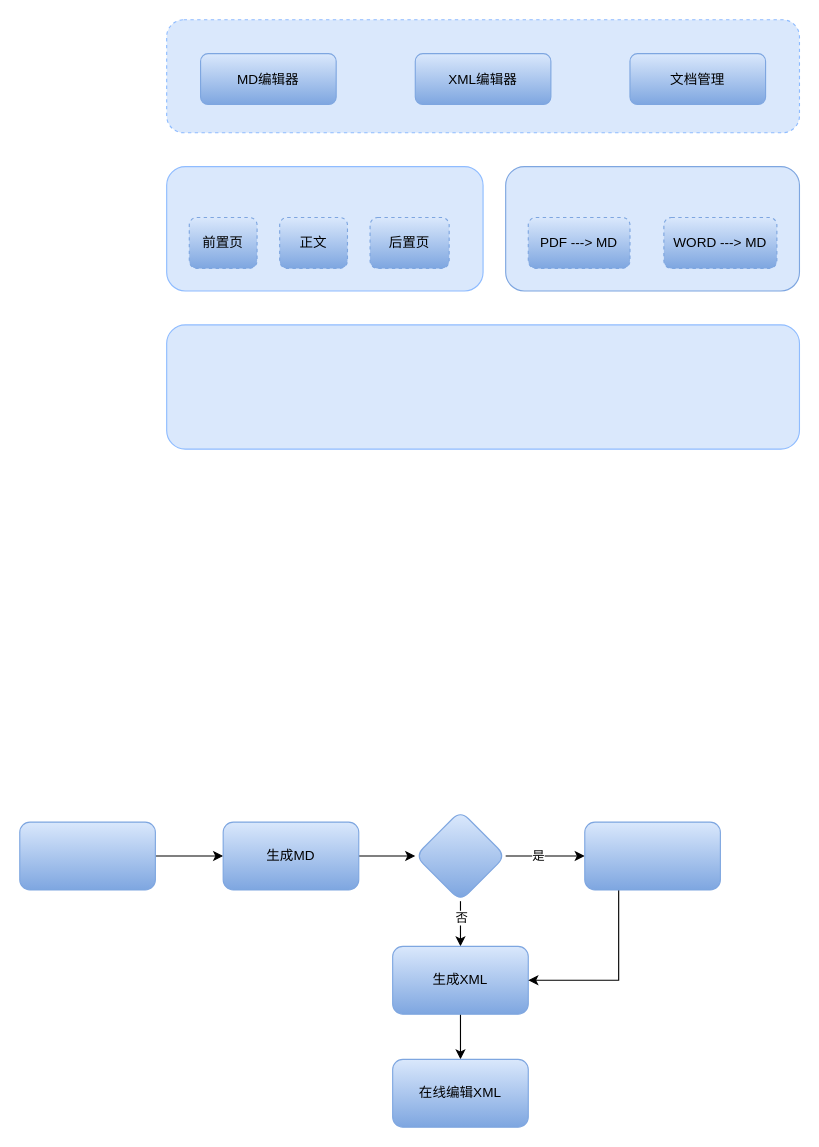
Some shapes in this 819 by 1147 pixel diagram are drawn without their labels. The box of each missing label's shape, as (x1, y1, x2, y2) in pixels:
MD转换引擎: (505, 166, 799, 291)
XML转换引擎: (166, 166, 483, 291)
在线编辑MD: (584, 821, 720, 890)
文档上传: (19, 821, 155, 890)
是否需 要调整: (414, 810, 506, 901)
